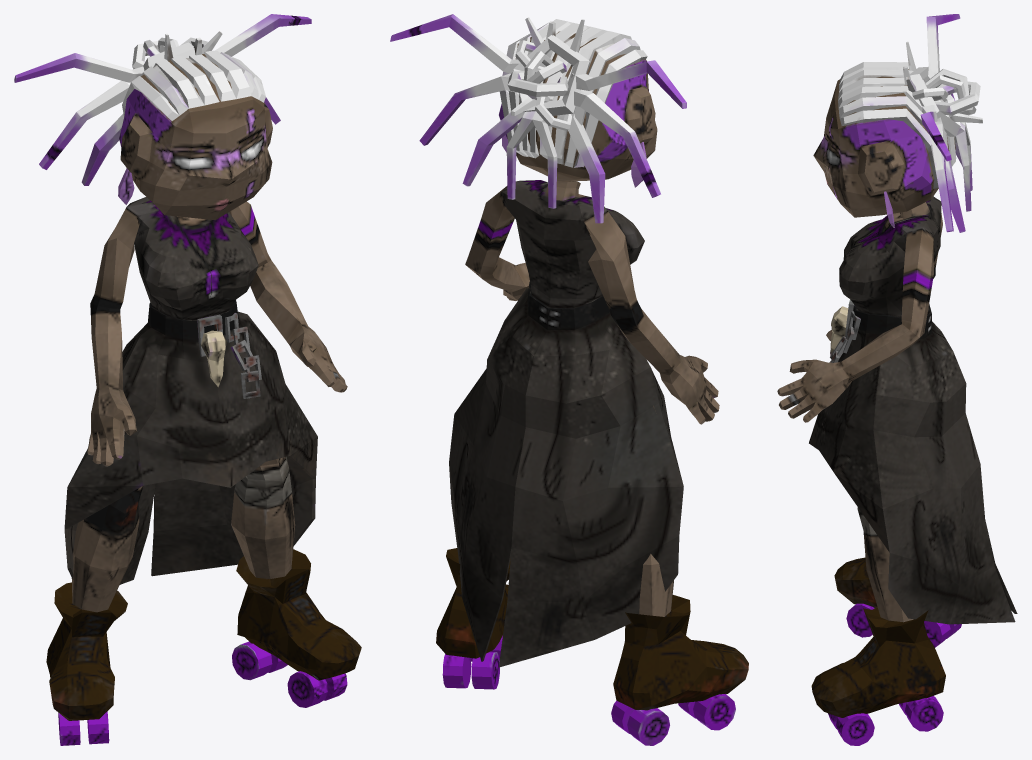
The model's file is bruja_000006.obj.
The picture shows the model from 3 angles, left to right: view 1: azimuth 30°, elevation 25°; view 2: azimuth 150°, elevation 25°; view 3: azimuth 270°, elevation 25°; orthographic projection. The views are drawn at different scales.
Visible parts, largest first — view 1: Bruja_Plane.001; view 2: Bruja_Plane.001; view 3: Bruja_Plane.001.
Boxes of the visible parts, x1,y1,x2,y2 form: Bruja_Plane.001: (14,14,361,745); Bruja_Plane.001: (390,14,748,745); Bruja_Plane.001: (777,14,1017,745).
Bounding box in the file's own units: 7.74 × 16.52 × 5.62.
